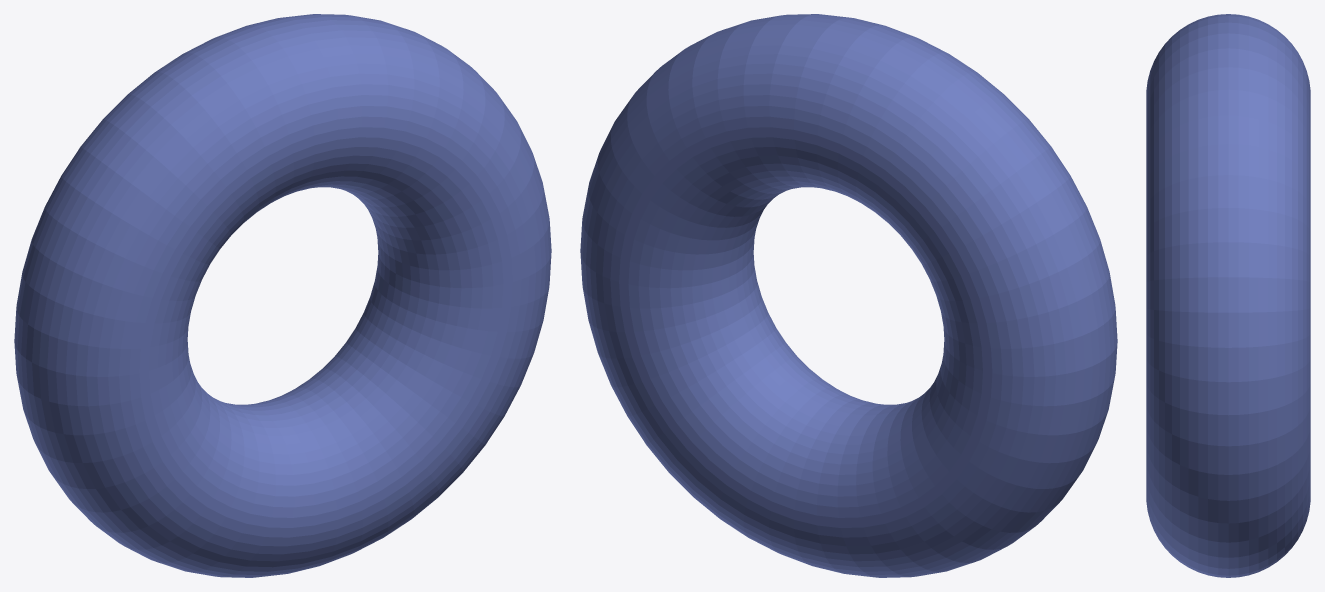
3 renders of one model, left to right at view 1: azimuth 30°, elevation 25°; view 2: azimuth 150°, elevation 25°; view 3: azimuth 270°, elevation 25°, orthographic. The views are drawn at different scales.
Visible parts, largest first — view 1: world; view 2: world; view 3: world.
Part boxes in pixels (x1,y1,x2,y2): world: [14, 14, 551, 577]; world: [580, 14, 1117, 577]; world: [1146, 14, 1310, 577].
Bounding box in the file's own units: 15.07 × 15.04 × 4.39.
